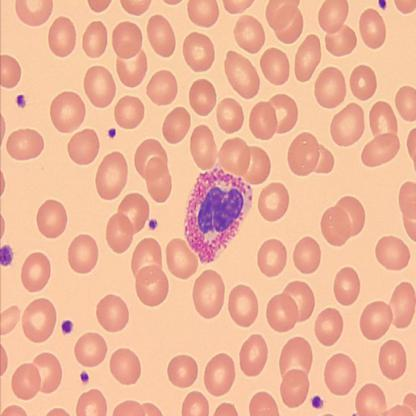Eosinophil: (183, 167, 251, 263)
